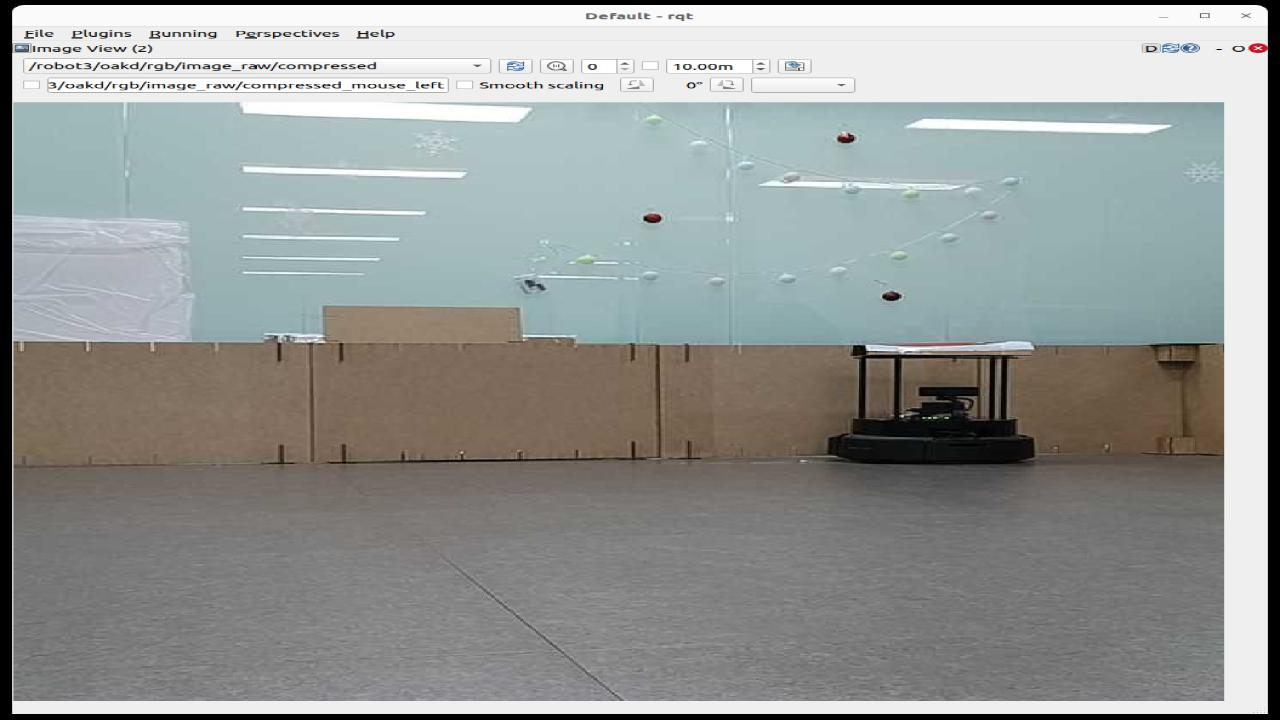AED: (853, 341, 1034, 356)
Robot: (829, 355, 1034, 463)
